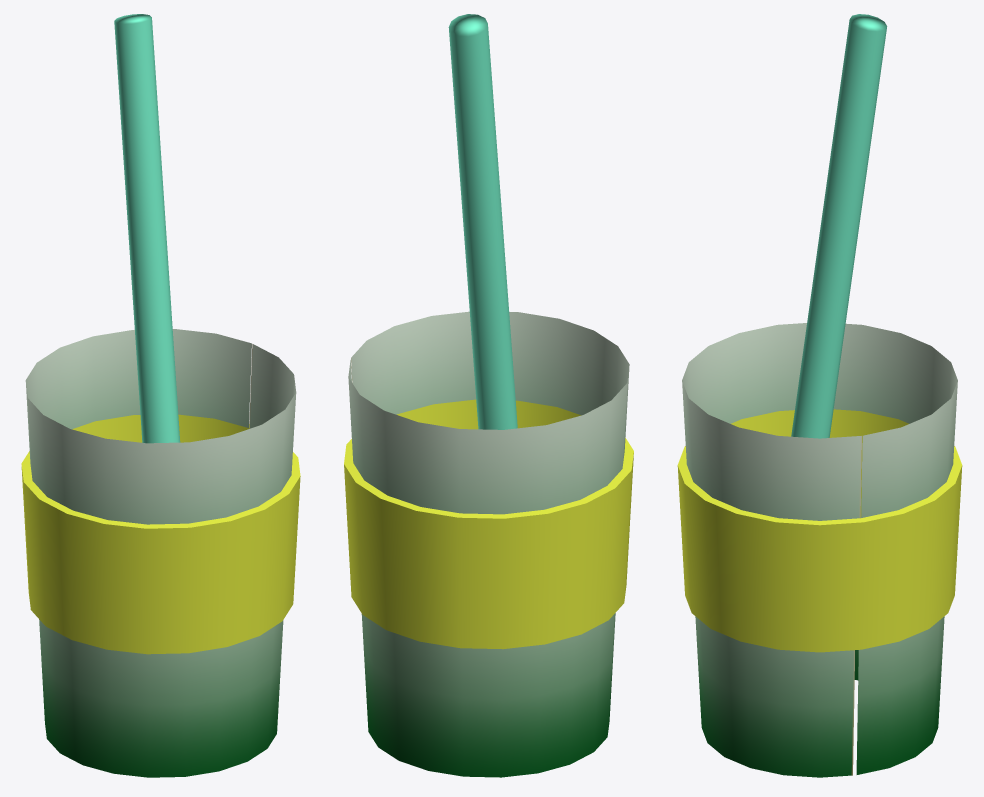
File: cups2.fbx
3 renders of one model, left to right at view 1: azimuth 30°, elevation 25°; view 2: azimuth 150°, elevation 25°; view 3: azimuth 270°, elevation 25°, orthographic. The views are drawn at different scales.
Parts seen in each view (by area): view 1: pCylinder5; view 2: pCylinder5; view 3: pCylinder5.
Boxes of the visible parts, x1,y1,x2,y2 form: pCylinder5: (21,14,300,777); pCylinder5: (344,14,633,777); pCylinder5: (677,14,962,777).
Bounding box in the file's own units: 0.000652 × 0.00172 × 0.000652.
2 materials, 2 textured.
